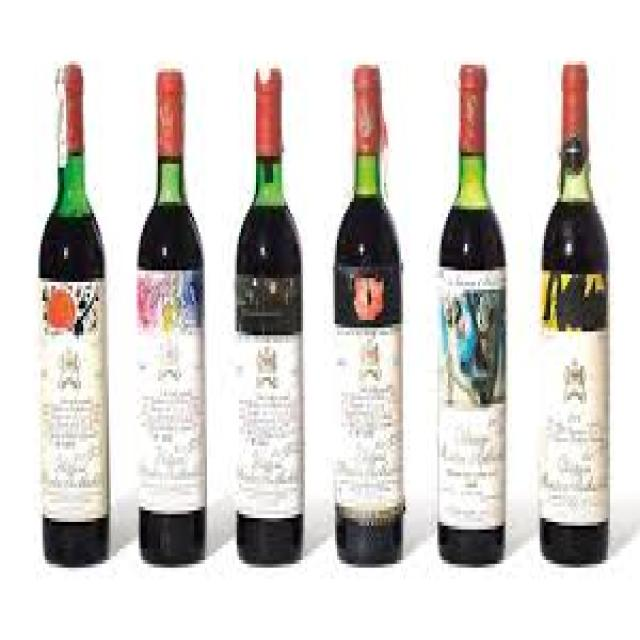Vidrio: (429, 51, 522, 578), (328, 49, 419, 578), (536, 52, 624, 584), (30, 36, 114, 575), (233, 40, 313, 580), (130, 62, 213, 582)
